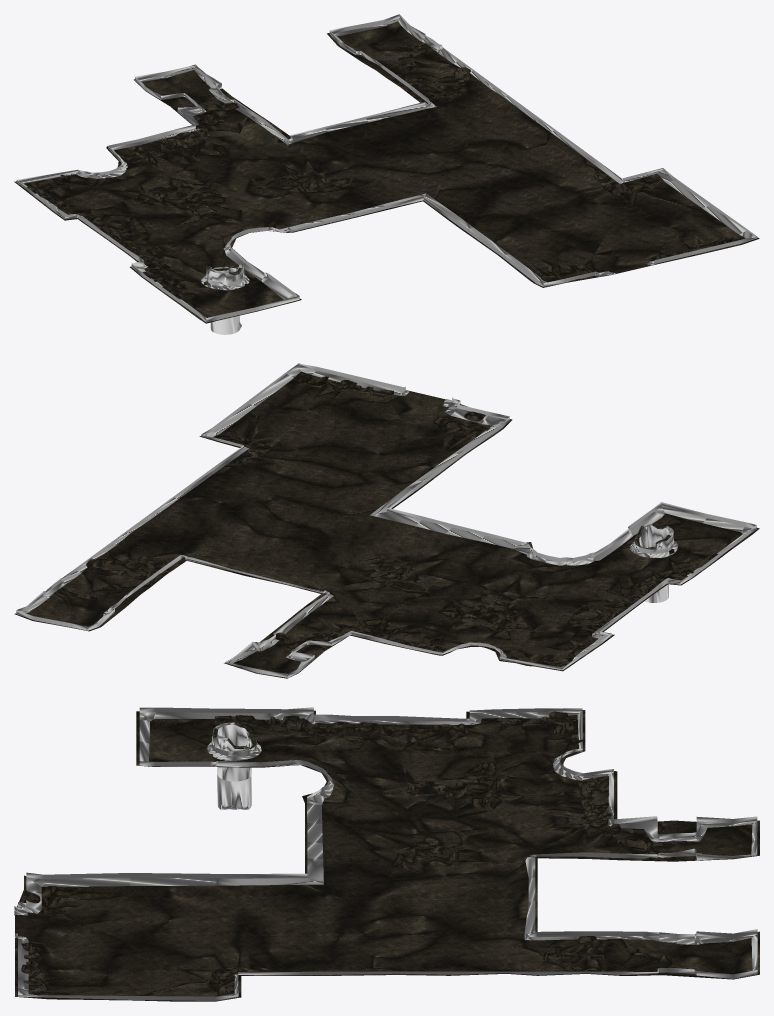
The picture shows the model from 3 angles, top to bottom: view 1: azimuth 30°, elevation 25°; view 2: azimuth 150°, elevation 25°; view 3: azimuth 270°, elevation 25°; orthographic projection. The views are drawn at different scales.
Visible parts, largest first — view 1: mesh4, mesh3; view 2: mesh4, mesh3, mesh0; view 3: mesh4, mesh3, mesh0, mesh1.
Part boxes in pixels (bbox=[...]): mesh4: bbox=[14, 21, 759, 323]; mesh3: bbox=[16, 14, 757, 322]; mesh4: bbox=[14, 363, 759, 678]; mesh3: bbox=[16, 363, 756, 677]; mesh0: bbox=[634, 524, 673, 549]; mesh4: bbox=[15, 710, 759, 1001]; mesh3: bbox=[14, 707, 757, 1000]; mesh0: bbox=[212, 722, 251, 781]; mesh1: bbox=[217, 775, 251, 809].
Size of the model in its own units: 39.37 by 4.78 by 43.37.
